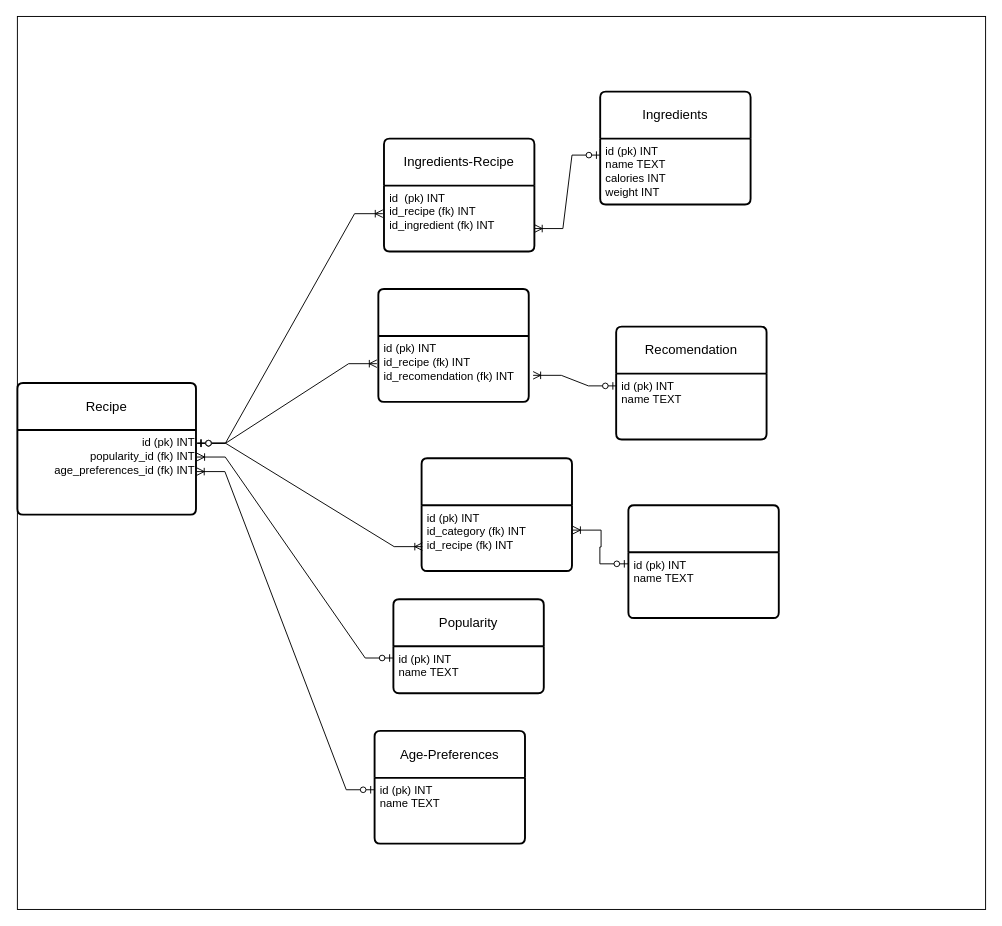
Some shapes in this 1002 by 926 pixel diagram are drawn without their labels. Here are the shapes that lost their labels. From the top down, the box of each, then its label:
(377, 288, 529, 402): Recomendation-Recipe
(420, 457, 572, 572): Category-Recipe
(627, 504, 779, 619): Category
